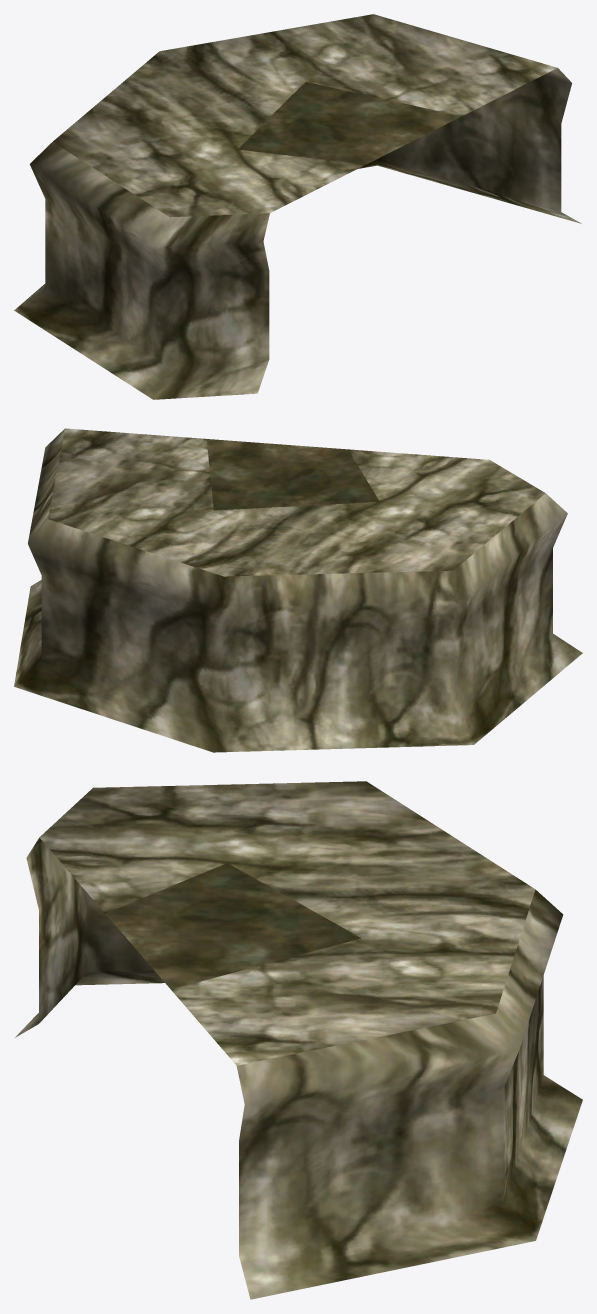
Rendered from CB_NEWPLAYSURFACE_CB_PLAYSURFACE87.fbx.
3 renders of one model, top to bottom at view 1: azimuth 30°, elevation 25°; view 2: azimuth 150°, elevation 25°; view 3: azimuth 270°, elevation 25°, orthographic. The views are drawn at different scales.
Parts seen in each view (by area): view 1: CB_NEWPLAYSURFACE_CB_PLAYSURFACE87; view 2: CB_NEWPLAYSURFACE_CB_PLAYSURFACE87; view 3: CB_NEWPLAYSURFACE_CB_PLAYSURFACE87.
Boxes of the visible parts, x1,y1,x2,y2 form: CB_NEWPLAYSURFACE_CB_PLAYSURFACE87: [14, 14, 581, 399]; CB_NEWPLAYSURFACE_CB_PLAYSURFACE87: [14, 428, 582, 752]; CB_NEWPLAYSURFACE_CB_PLAYSURFACE87: [15, 781, 582, 1299].
Bounding box in the file's own units: 113665 × 35371 × 84831.
3 materials, 3 textured.
